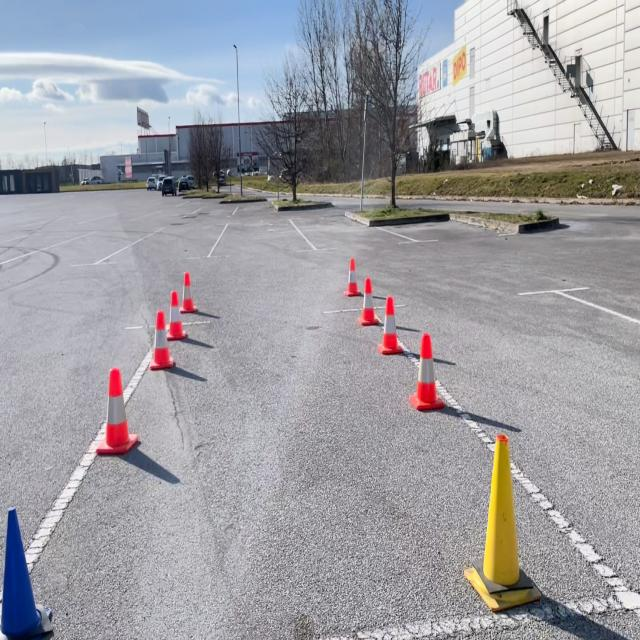blue_cone: (0, 502, 52, 639)
orange_cone: (94, 366, 138, 456), (407, 330, 445, 411), (377, 294, 404, 355), (148, 308, 174, 370), (357, 275, 380, 326), (168, 289, 187, 345), (343, 256, 361, 296), (180, 270, 196, 314)
yellow_cone: (464, 433, 541, 611)
